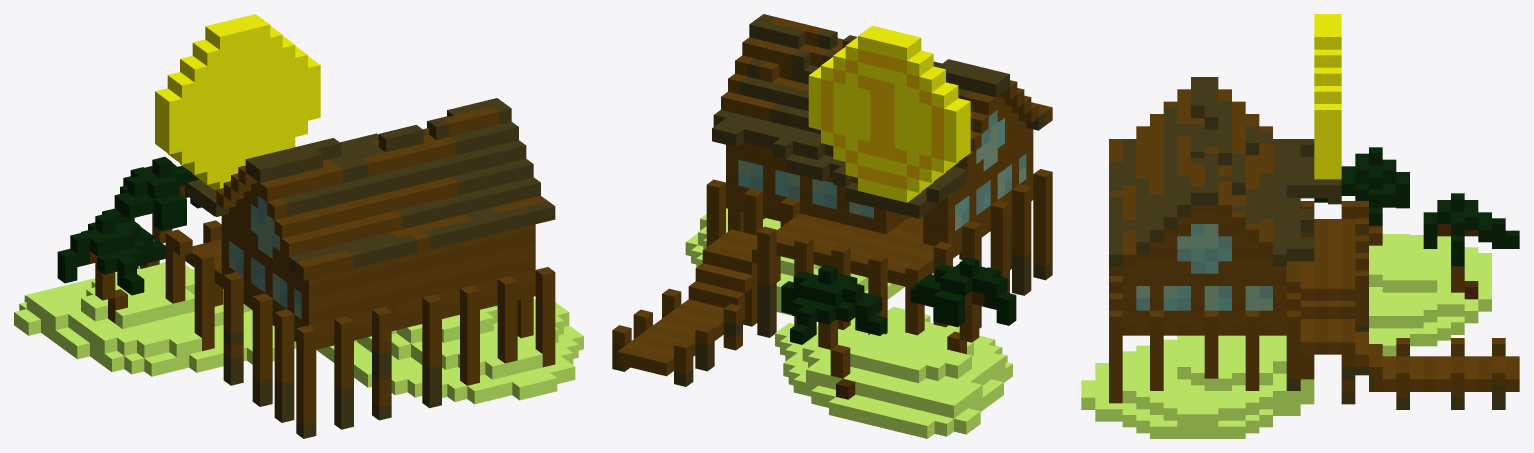
Rendered from Island Shop.obj.
The picture shows the model from 3 angles, left to right: view 1: azimuth 30°, elevation 25°; view 2: azimuth 150°, elevation 25°; view 3: azimuth 270°, elevation 25°; orthographic projection. The views are drawn at different scales.
Bounding box in the file's own units: 3.2 × 2.4 × 3.2.
1 material, 1 textured.
